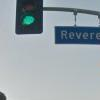Traffic light: (10, 0, 46, 40)
